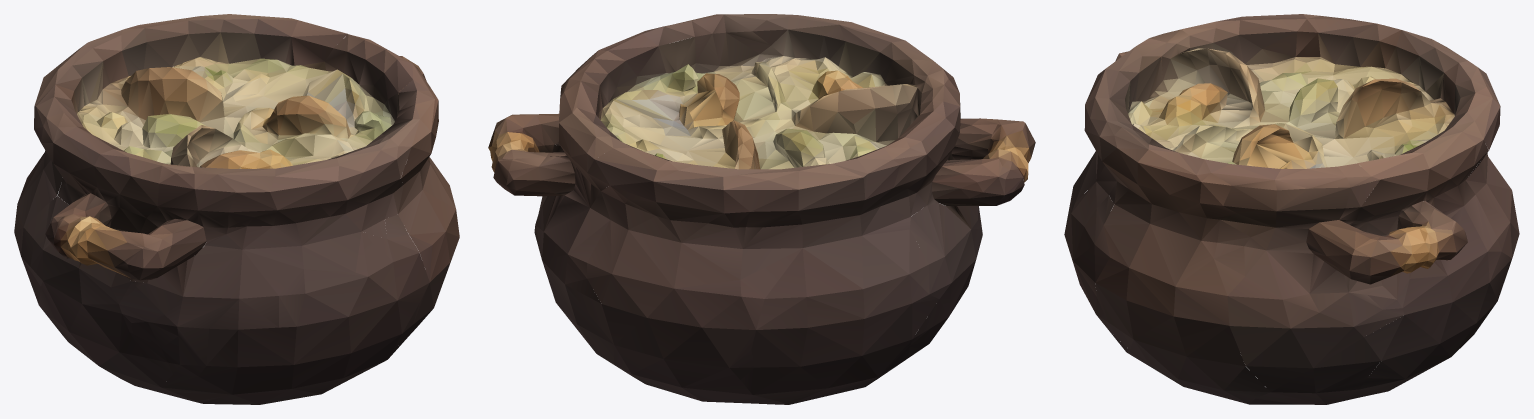
Rendered from building-betterStove-pot.glb.
3 renders of one model, left to right at view 1: azimuth 30°, elevation 25°; view 2: azimuth 150°, elevation 25°; view 3: azimuth 270°, elevation 25°, orthographic.
Visible parts, largest first — view 1: 0_betterStove-pot; view 2: 0_betterStove-pot; view 3: 0_betterStove-pot.
Part boxes in pixels (x1=…): 0_betterStove-pot: x1=14, y1=14, x2=459, y2=404; 0_betterStove-pot: x1=488, y1=14, x2=1035, y2=404; 0_betterStove-pot: x1=1064, y1=14, x2=1519, y2=404.
Bounding box in the file's own units: 0.4 × 0.221 × 0.3471.
